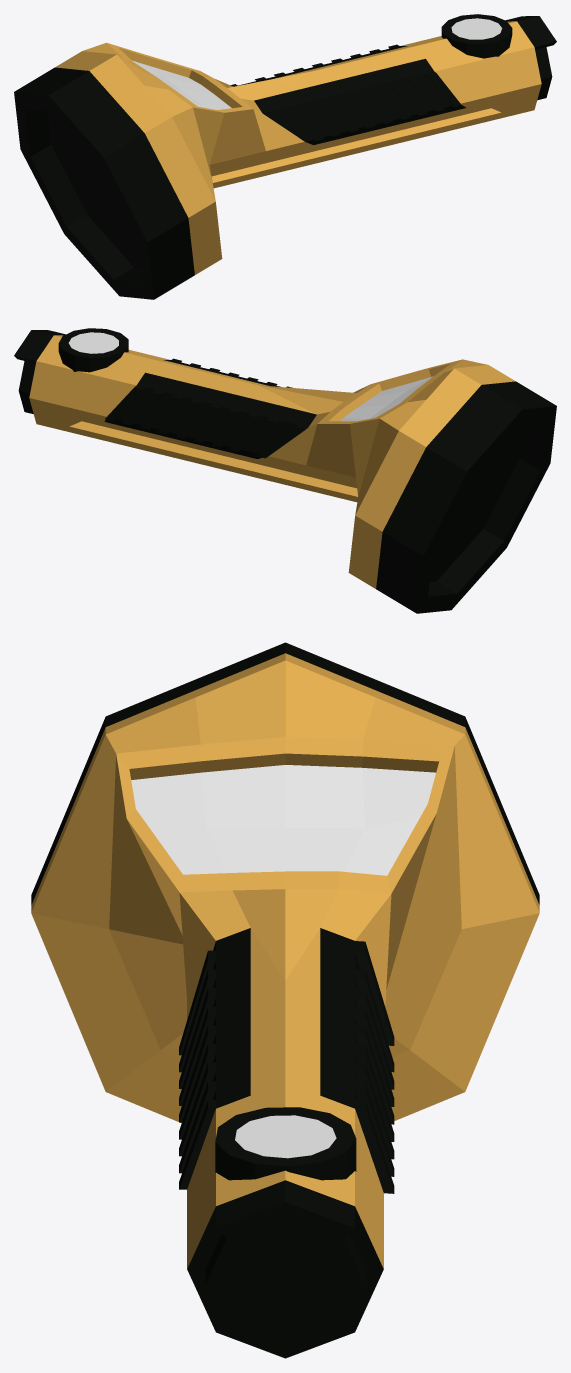
Rendered from рыжая лейка для душа.fbx.
3 renders of one model, top to bottom at view 1: azimuth 30°, elevation 25°; view 2: azimuth 150°, elevation 25°; view 3: azimuth 270°, elevation 25°, orthographic. The views are drawn at different scales.
Visible parts, largest first — view 1: Cylinder, Cylinder.001; view 2: Cylinder, Cylinder.001; view 3: Cylinder, Cylinder.001.
Boxes of the visible parts, left/top/right/bottom form: Cylinder: left=14, top=16, right=556, bottom=299; Cylinder.001: left=441, top=14, right=512, bottom=58; Cylinder: left=14, top=330, right=556, bottom=613; Cylinder.001: left=58, top=328, right=128, bottom=372; Cylinder: left=31, top=642, right=539, bottom=1358; Cylinder.001: left=215, top=1107, right=356, bottom=1180.
Bounding box in the file's own units: 1153 × 544 × 517.
